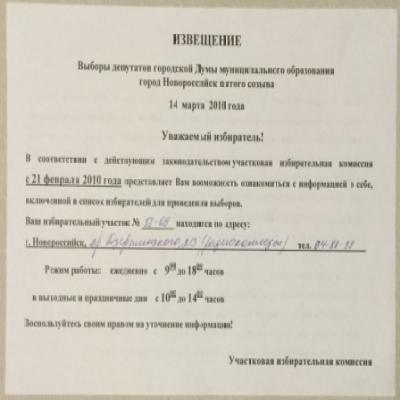document: (5, 0, 400, 400)
